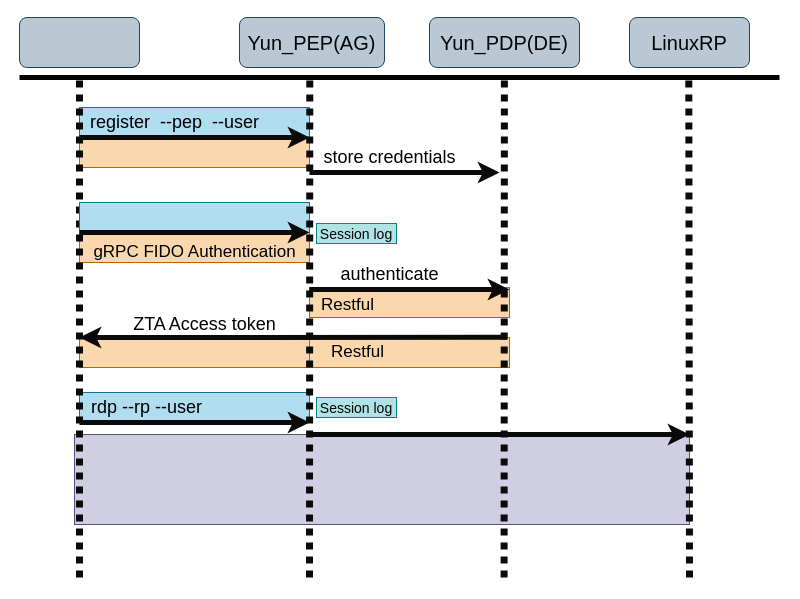
Image size: 800x599. Some labels were removed from this diagram. The shapes that lost their labels are listed below. From the top down, each one's centre as x and y in pixels, then its label:
At point (79, 42): "yunagent".
At point (194, 152): "gRPC FIDO register".
At point (194, 217): "login --pep --user".
At point (199, 352): "gRPC".
At point (382, 479): "tunnel".
